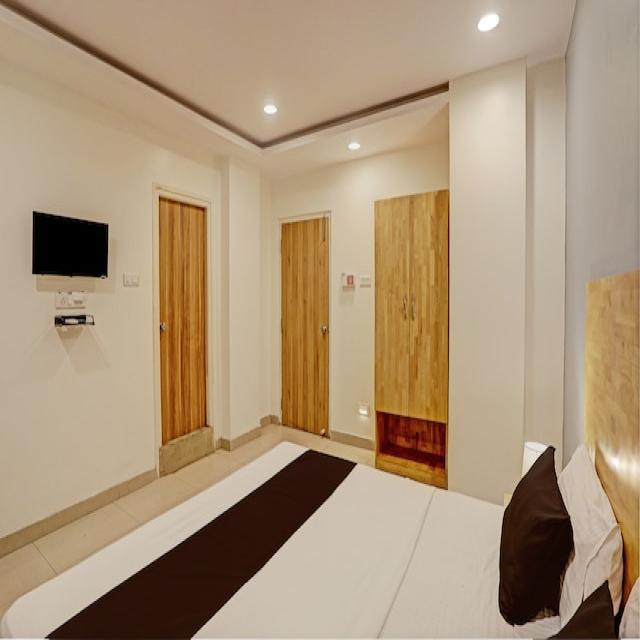Monitor: (23, 207, 123, 311)
bed: (0, 428, 640, 640)
